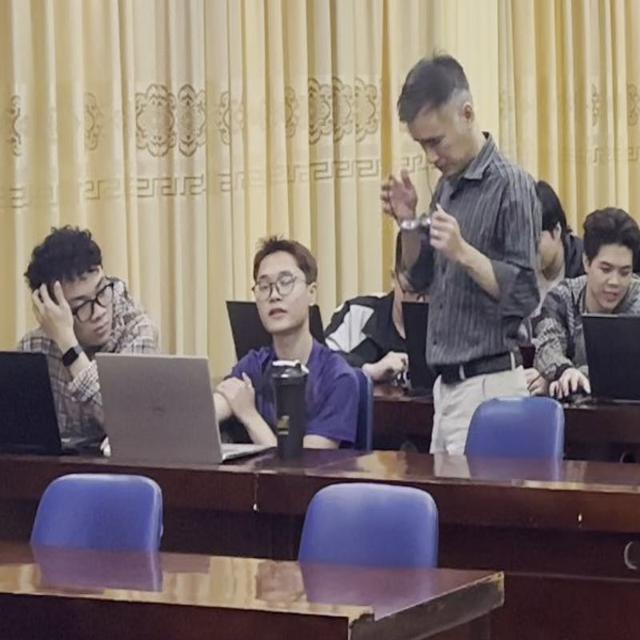Looking away: (27, 228, 118, 346), (404, 62, 482, 181), (582, 208, 640, 312)
Looking forward: (244, 232, 316, 340)
